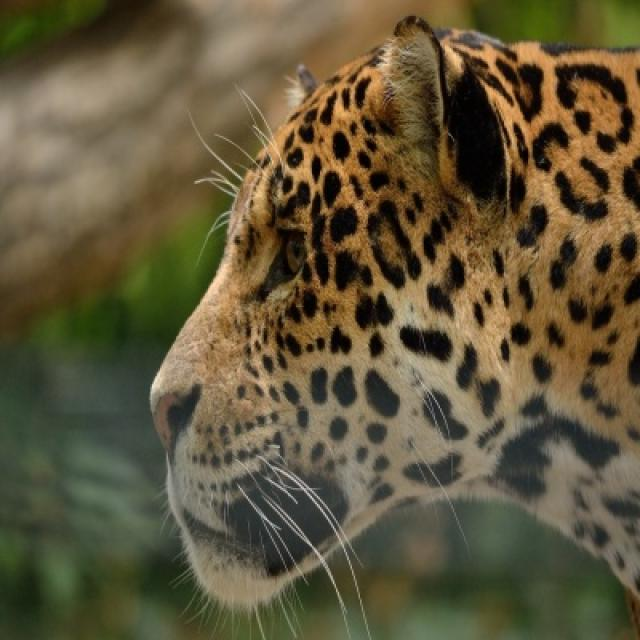Jaguar: (149, 14, 638, 638)
